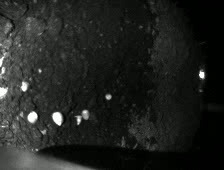corn: (25, 109, 42, 125), (50, 110, 65, 128), (80, 107, 92, 123), (72, 113, 85, 127), (18, 79, 31, 93), (102, 91, 114, 102)
